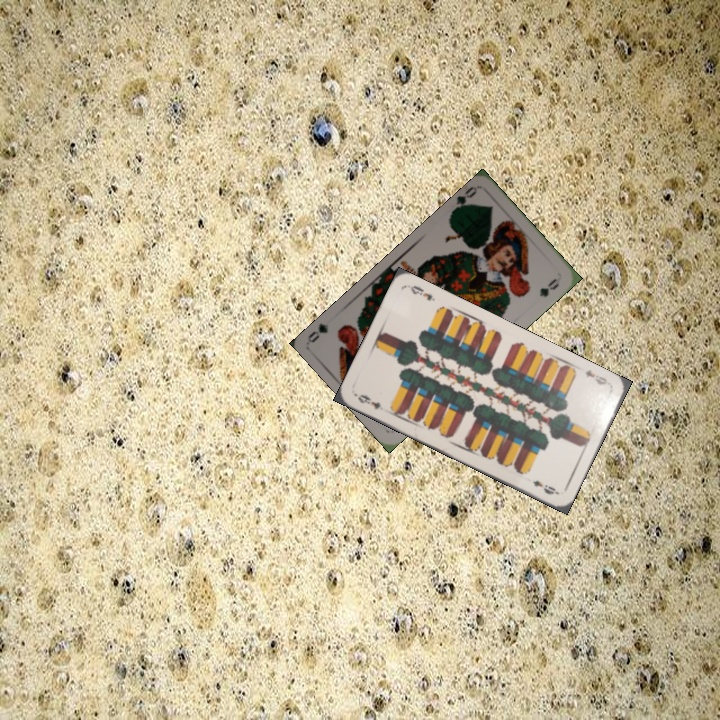E9: (581, 365, 613, 388), (352, 390, 383, 412)
GO: (447, 182, 480, 216)
